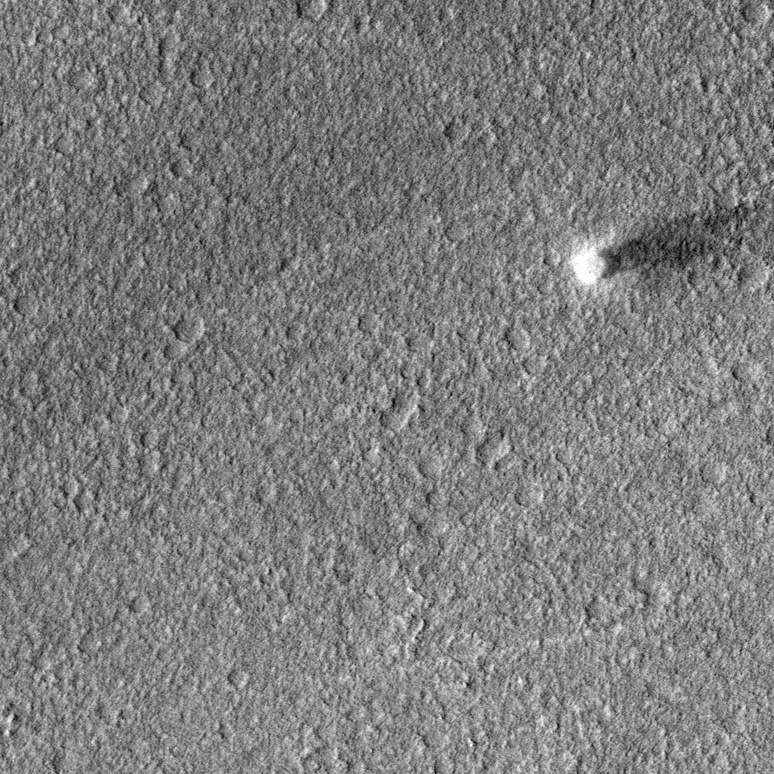dust_devil: (569, 200, 764, 288)
